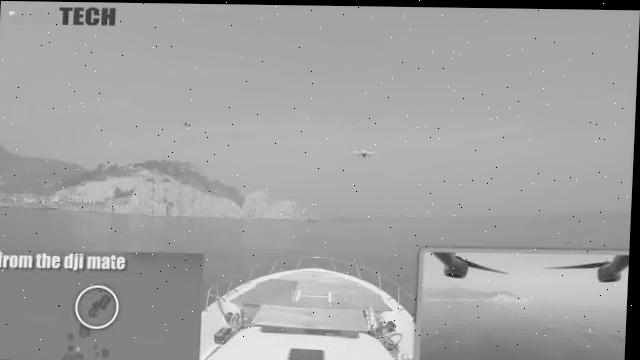drone: (0, 355, 628, 360)
